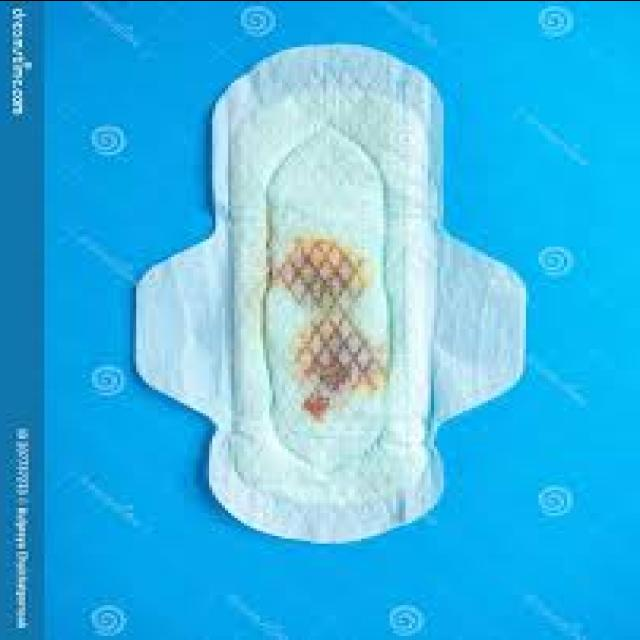napkin: (136, 45, 526, 541)
